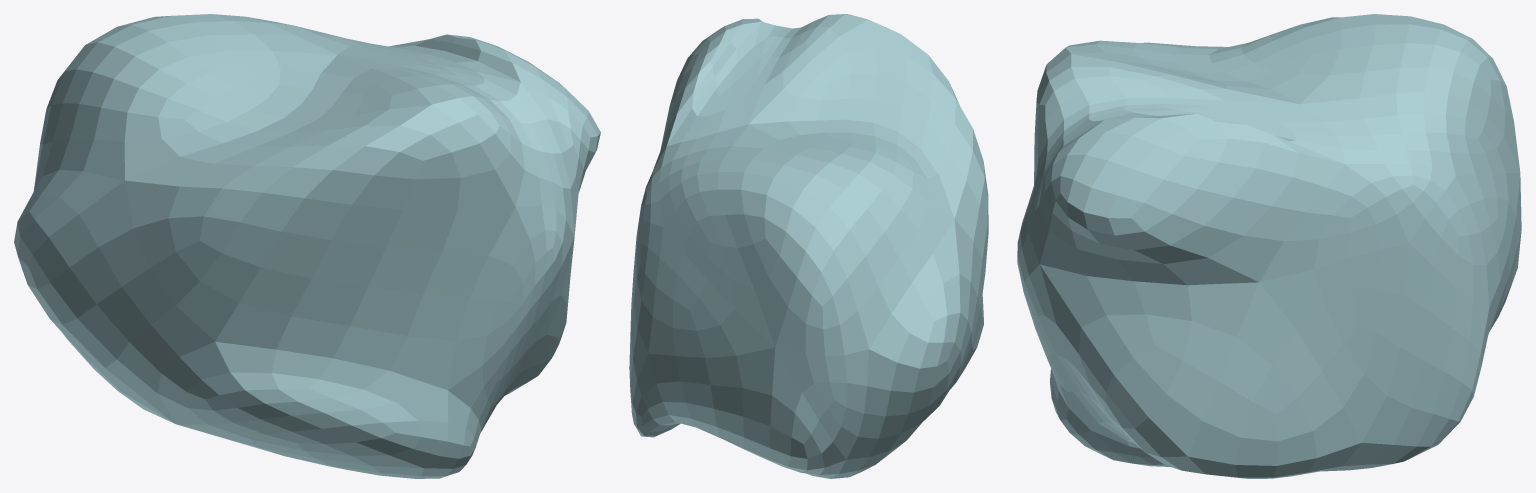
The model's file is debris chunk 5.fbx.
The picture shows the model from 3 angles, left to right: view 1: azimuth 30°, elevation 25°; view 2: azimuth 150°, elevation 25°; view 3: azimuth 270°, elevation 25°; orthographic projection. The views are drawn at different scales.
Parts seen in each view (by area): view 1: Cube.023; view 2: Cube.023; view 3: Cube.023.
Boxes of the visible parts, left/top/right/bottom form: Cube.023: left=14, top=14, right=600, bottom=478; Cube.023: left=629, top=14, right=988, bottom=478; Cube.023: left=1017, top=14, right=1521, bottom=478.
Bounding box in the file's own units: 768 × 691 × 793.
